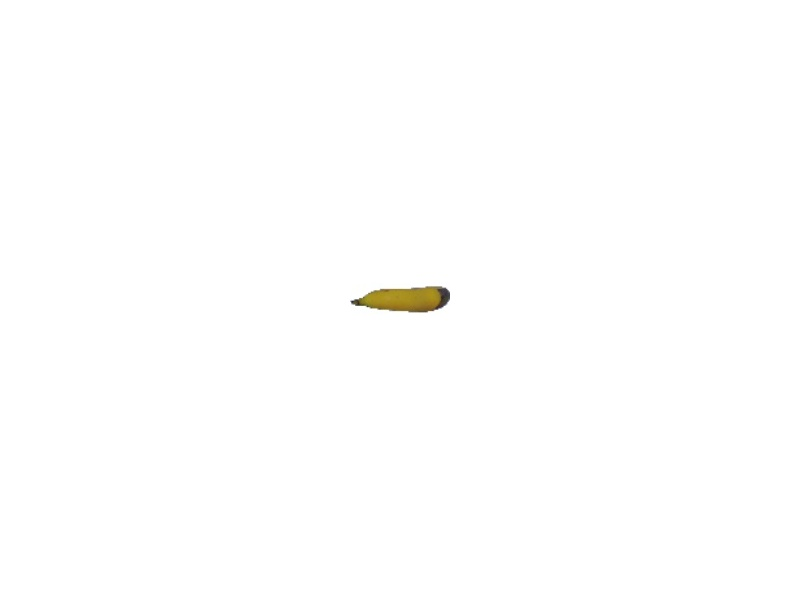banana: (348, 285, 452, 314)
